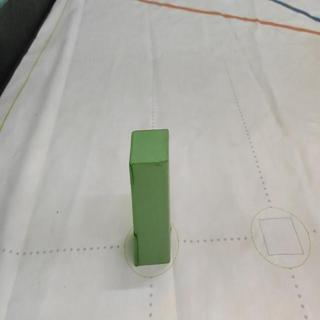greenbox: (129, 127, 172, 266)
